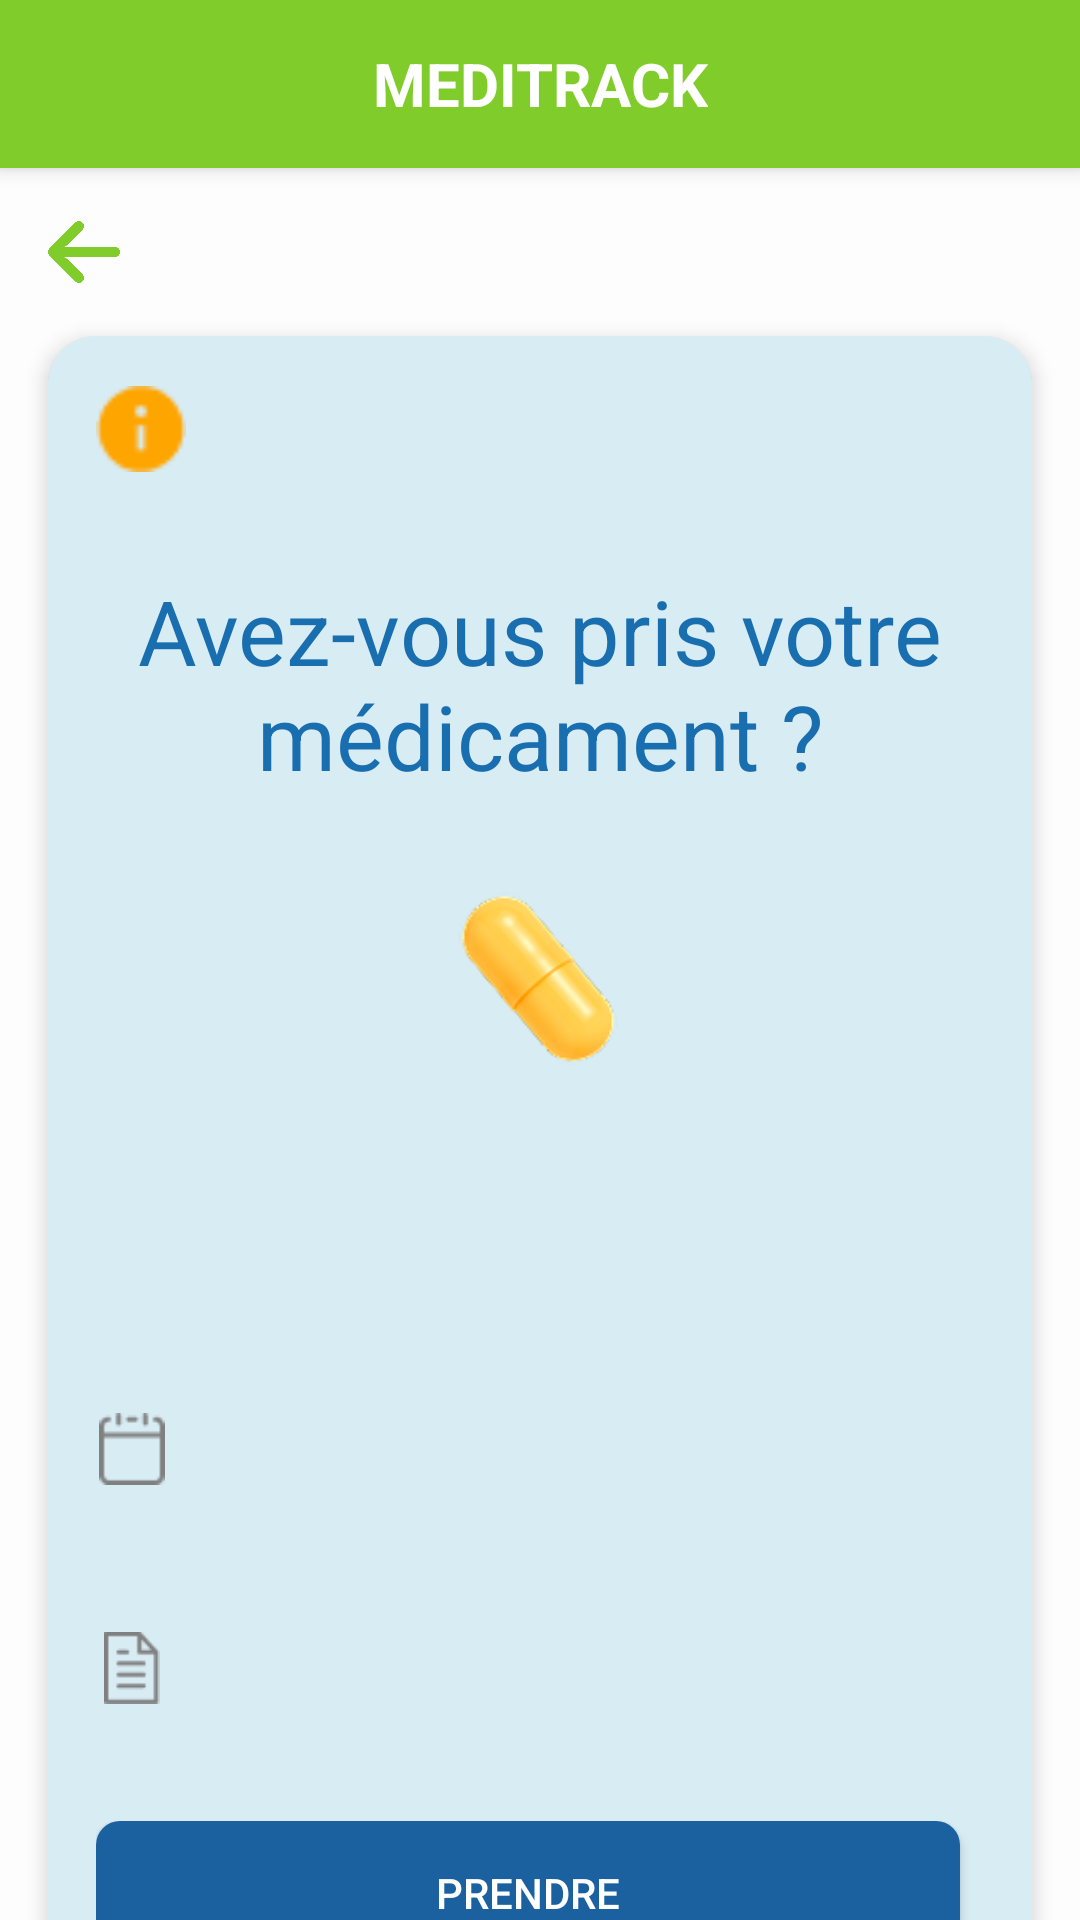

Icons on this 1080*1920 Android screen, each with its box as (x1, y1, x2, y2):
attention: (96, 386, 186, 472)
document: (104, 1632, 160, 1704)
pill: (462, 896, 614, 1062)
Retour: (48, 221, 120, 283)
